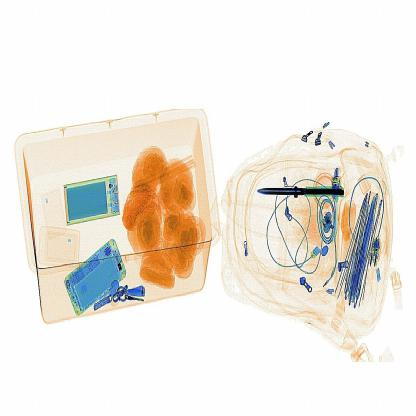gun: (256, 172, 356, 206)
